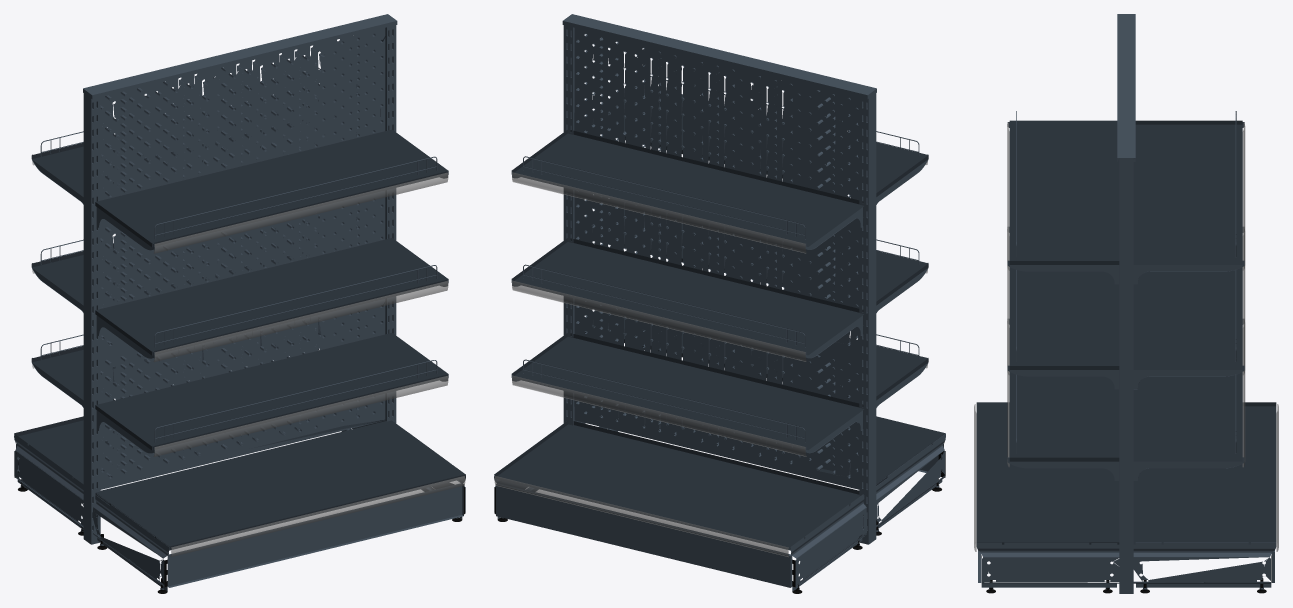
Rendered from GONDOLA-53-39.glb.
3 views of the same model, side by side, from view 1: azimuth 30°, elevation 25°; view 2: azimuth 150°, elevation 25°; view 3: azimuth 270°, elevation 25° (orthographic). The views are drawn at different scales.
Bounding box in the file's own units: 0.9908 × 1.4 × 0.8857.
